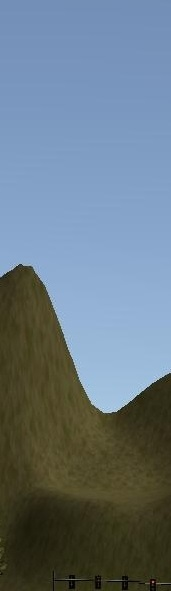Red: (150, 579, 157, 591)
